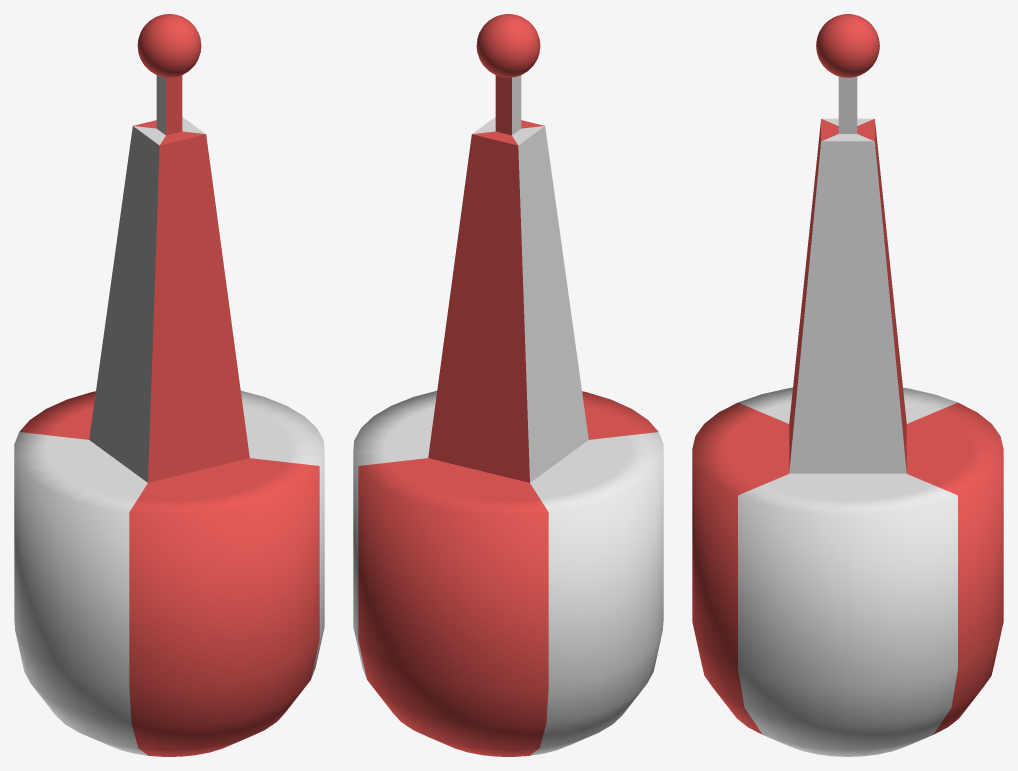
Rendered from poju.fbx.
The picture shows the model from 3 angles, left to right: view 1: azimuth 30°, elevation 25°; view 2: azimuth 150°, elevation 25°; view 3: azimuth 270°, elevation 25°; orthographic projection.
Parts seen in each view (by area): view 1: Cylinder, Cube, Sphere; view 2: Cylinder, Cube, Sphere; view 3: Cylinder, Cube, Sphere.
Part boxes in pixels (left/top/right/bottom): Cylinder: left=14, top=391, right=324, bottom=756; Cube: left=89, top=75, right=249, bottom=482; Sphere: left=137, top=14, right=201, bottom=77; Cylinder: left=353, top=391, right=663, bottom=756; Cube: left=428, top=75, right=588, bottom=482; Sphere: left=476, top=14, right=540, bottom=77; Cylinder: left=692, top=387, right=1003, bottom=756; Cube: left=789, top=76, right=906, bottom=473; Sphere: left=816, top=14, right=879, bottom=77.
Size of the model in its own units: 208 by 528 by 208.
